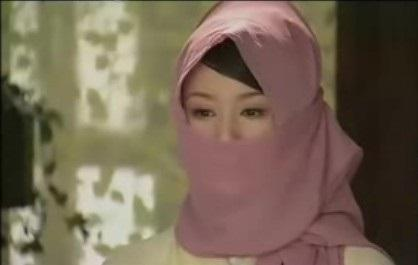WRONG: (183, 73, 281, 200)
